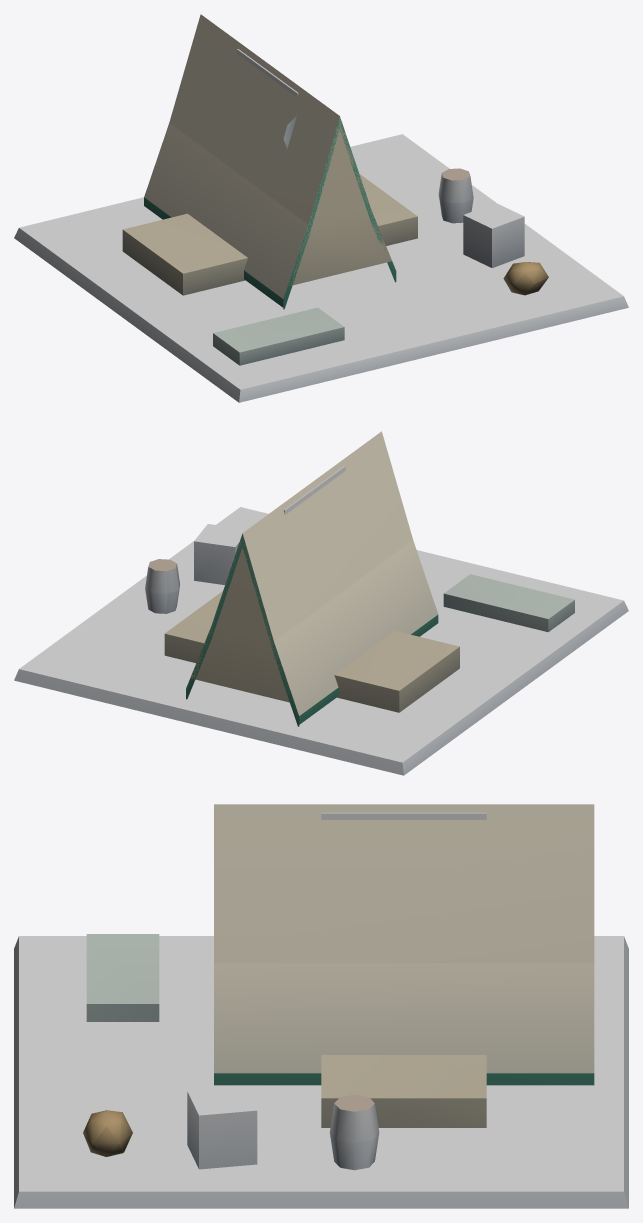
Rendered from hospital_t1.glb.
3 views of the same model, one above another, from view 1: azimuth 30°, elevation 25°; view 2: azimuth 150°, elevation 25°; view 3: azimuth 270°, elevation 25° (orthographic). The views are drawn at different scales.
Parts seen in each view (by area): view 1: hospital_t1; view 2: hospital_t1; view 3: hospital_t1.
Boxes of the visible parts, x1,y1,x2,y2 form: hospital_t1: (14,14,628,402); hospital_t1: (14,431,628,775); hospital_t1: (14,804,628,1208).
Bounding box in the file's own units: 1.86 × 0.87 × 1.86.
